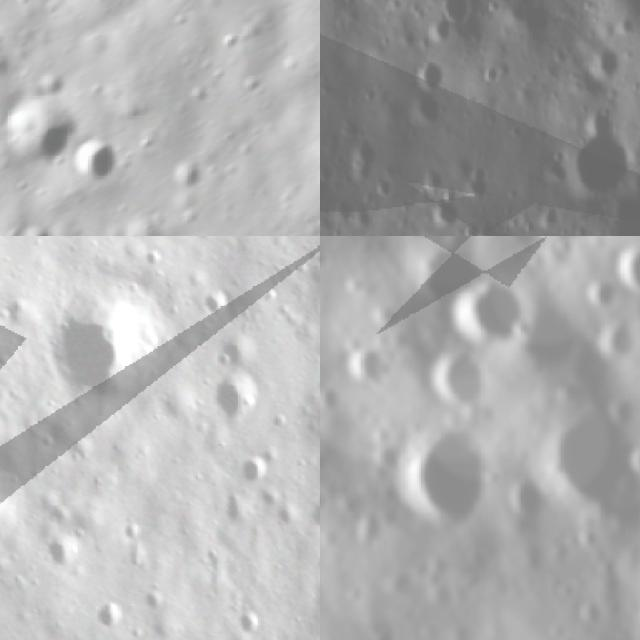crater: (378, 411, 518, 551), (40, 276, 176, 398), (537, 402, 640, 531), (442, 268, 539, 362), (553, 109, 640, 210), (503, 304, 599, 395), (412, 344, 501, 431), (0, 91, 76, 168), (334, 338, 399, 403), (500, 236, 626, 267), (502, 470, 560, 537), (65, 132, 124, 191), (210, 372, 268, 430), (345, 504, 402, 560), (593, 312, 640, 377), (379, 565, 428, 617), (406, 45, 460, 92), (582, 276, 630, 323), (337, 126, 381, 177), (408, 82, 446, 141), (609, 237, 640, 309), (39, 533, 85, 576), (570, 596, 612, 639), (163, 152, 207, 193), (586, 40, 636, 76), (434, 0, 479, 38), (216, 336, 256, 378), (320, 375, 350, 429), (0, 470, 20, 547), (235, 451, 272, 488), (96, 598, 125, 634), (121, 514, 149, 548), (235, 609, 266, 637), (200, 290, 230, 318), (320, 480, 339, 523), (304, 494, 320, 540), (139, 588, 167, 614), (12, 222, 58, 236), (627, 436, 640, 482)
